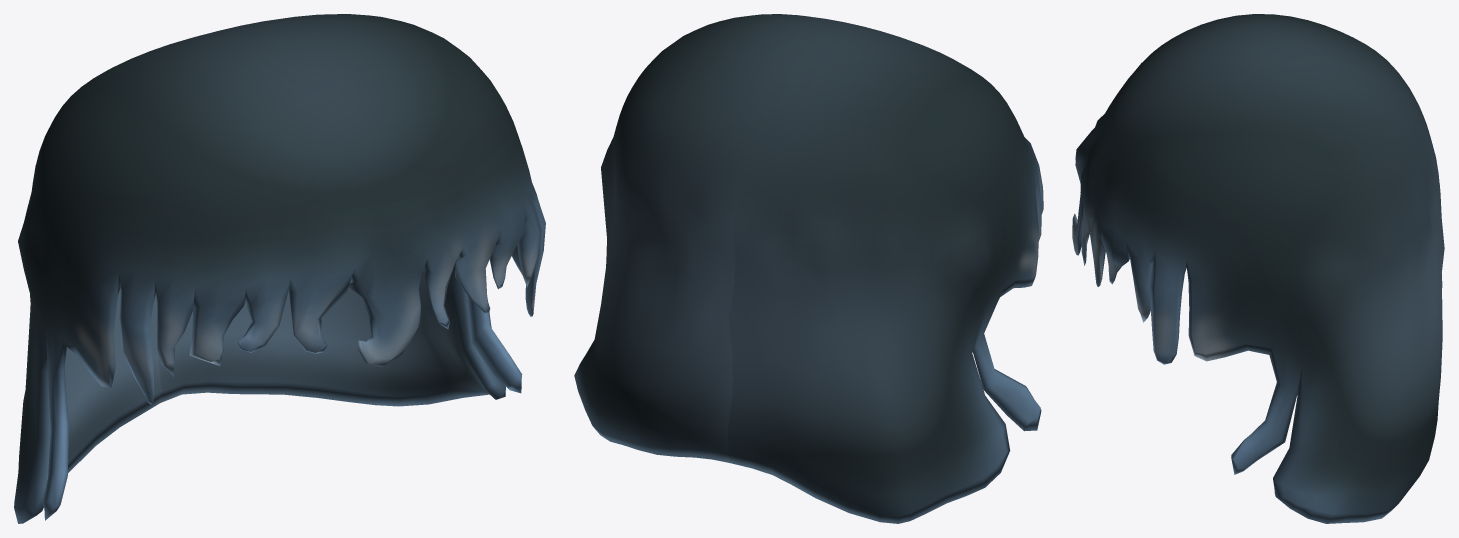
The model's file is OG_Frosted_Blue.glb.
3 renders of one model, left to right at view 1: azimuth 30°, elevation 25°; view 2: azimuth 150°, elevation 25°; view 3: azimuth 270°, elevation 25°, orthographic. The views are drawn at different scales.
Visible parts, largest first — view 1: OG_Frosted_Blue; view 2: OG_Frosted_Blue; view 3: OG_Frosted_Blue.
Boxes of the visible parts, x1,y1,x2,y2 form: OG_Frosted_Blue: (14, 14, 545, 523); OG_Frosted_Blue: (574, 14, 1043, 523); OG_Frosted_Blue: (1072, 14, 1444, 523).
Size of the model in its own units: 1.07 by 0.9721 by 0.8194.
Materials: 1 (1 with a texture image).
